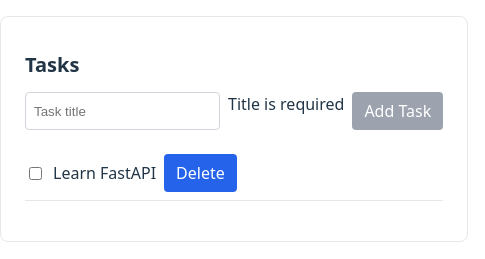
Test: Task Page › deletes a task when delete button is clicked
Click the button with aria-label "delete-1": (200, 173) 164,154 -> 237,192
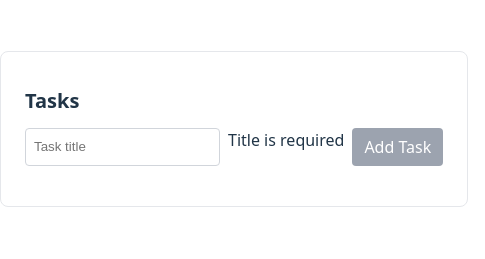
Result: the text "Learn FastAPI" is gone
